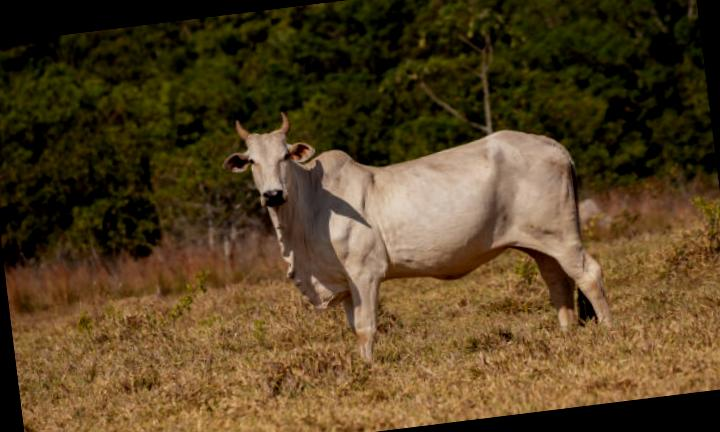Brahman: (223, 114, 609, 360)
